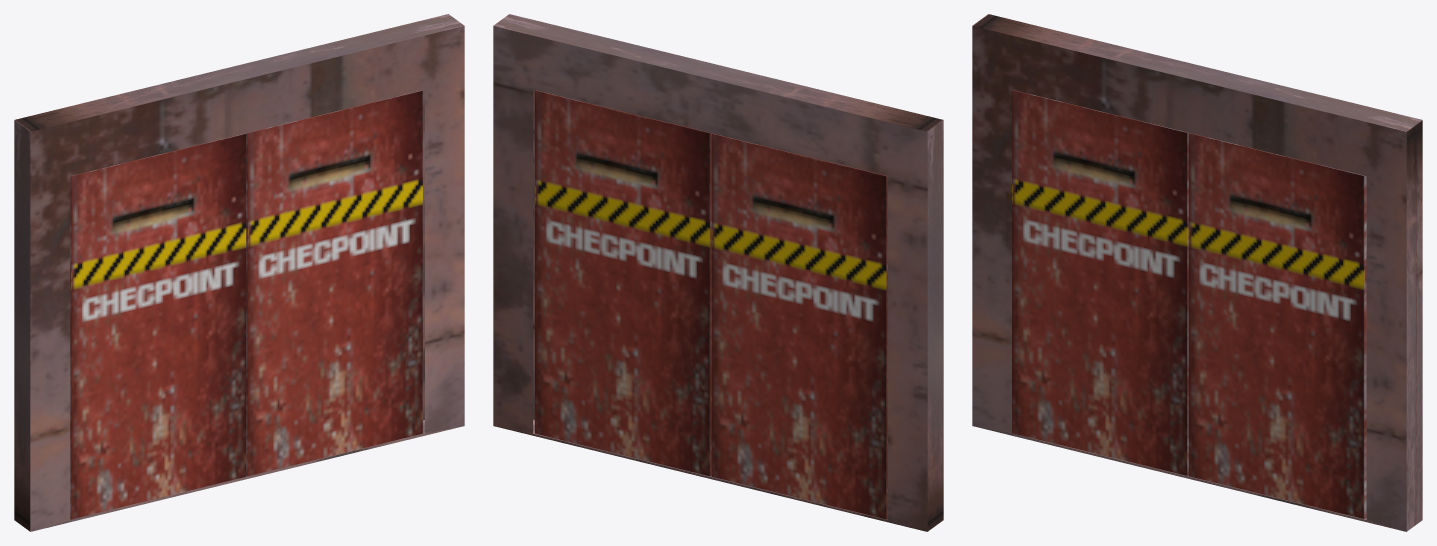
The model's file is GateChecpoint.fbx.
3 views of the same model, side by side, from view 1: azimuth 30°, elevation 25°; view 2: azimuth 150°, elevation 25°; view 3: azimuth 330°, elevation 25° (orthographic).
Parts seen in each view (by area): view 1: Cube, GateR, GateL; view 2: Cube, GateR, GateL; view 3: Cube, GateR, GateL.
Part boxes in pixels (x1=…): Cube: x1=14, y1=14, x2=464, y2=531; GateR: x1=246, y1=90, x2=422, y2=476; GateL: x1=70, y1=133, x2=246, y2=519; Cube: x1=493, y1=14, x2=943, y2=531; GateR: x1=535, y1=90, x2=711, y2=476; GateL: x1=711, y1=133, x2=887, y2=519; Cube: x1=972, y1=14, x2=1422, y2=531; GateR: x1=1188, y1=133, x2=1366, y2=518; GateL: x1=1012, y1=90, x2=1188, y2=475.
Bounding box in the file's own units: 758 × 667 × 51.49.
Materials: 2 (2 with a texture image).
